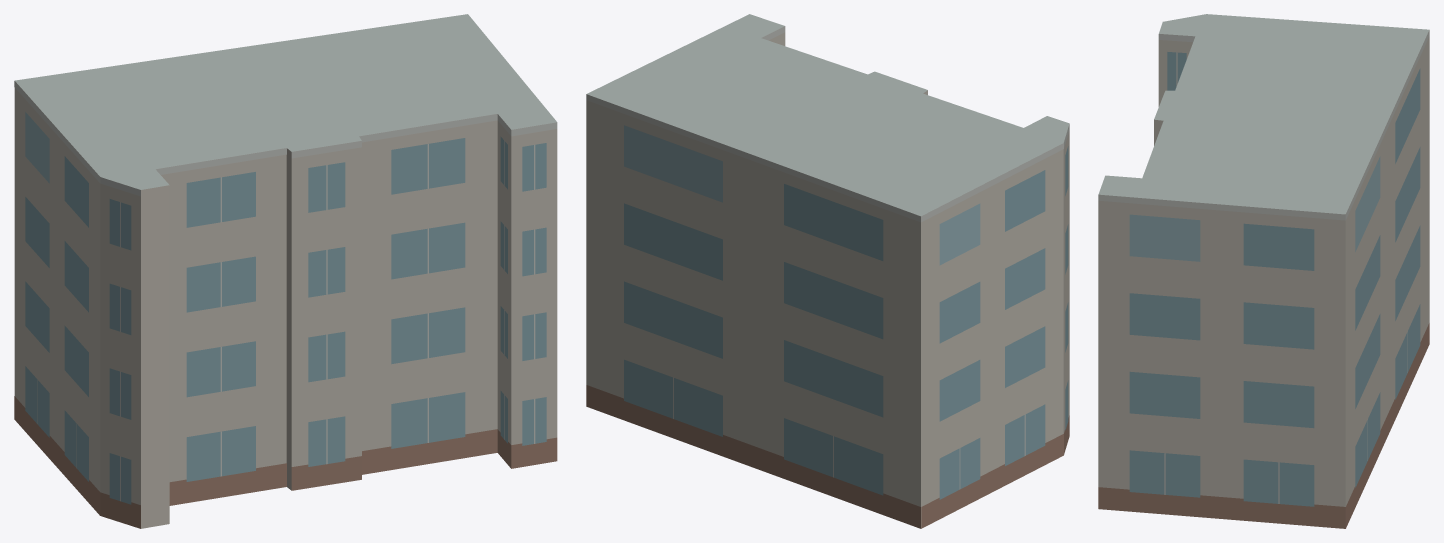
Rendered from survey-upis-32704922.glb.
3 renders of one model, left to right at view 1: azimuth 30°, elevation 25°; view 2: azimuth 150°, elevation 25°; view 3: azimuth 270°, elevation 25°, orthographic. The views are drawn at different scales.
Visible parts, largest first — view 1: survey-upis-32704922.tmp; view 2: survey-upis-32704922.tmp; view 3: survey-upis-32704922.tmp.
Boxes of the visible parts, x1,y1,x2,y2 form: survey-upis-32704922.tmp: (14, 14, 557, 528); survey-upis-32704922.tmp: (586, 14, 1069, 528); survey-upis-32704922.tmp: (1098, 14, 1429, 528).
Size of the model in its own units: 17.24 by 12.6 by 12.04.
